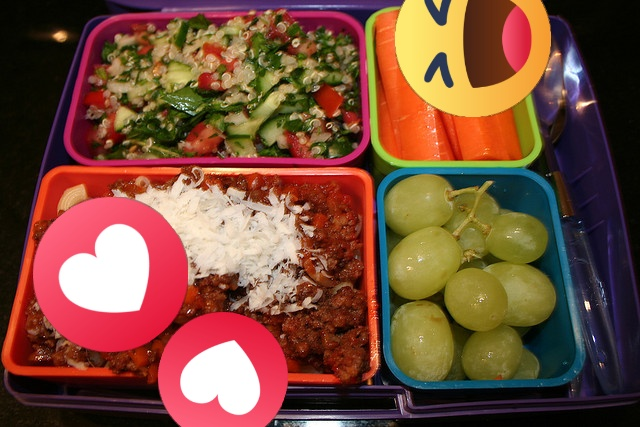haha: (395, 0, 551, 117)
love: (33, 197, 188, 352), (158, 312, 288, 427)
